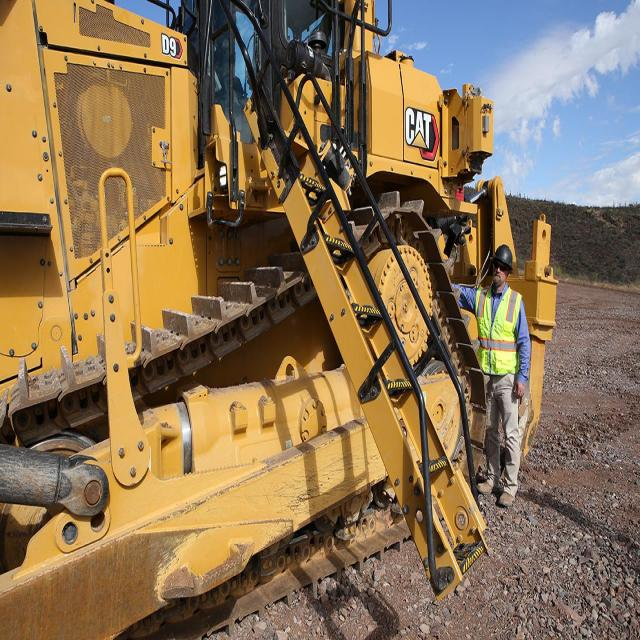Bulldozer: (6, 10, 542, 619)
